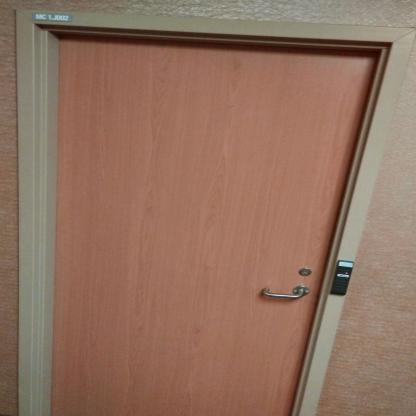door: (62, 39, 354, 415)
lever: (261, 284, 308, 302)
